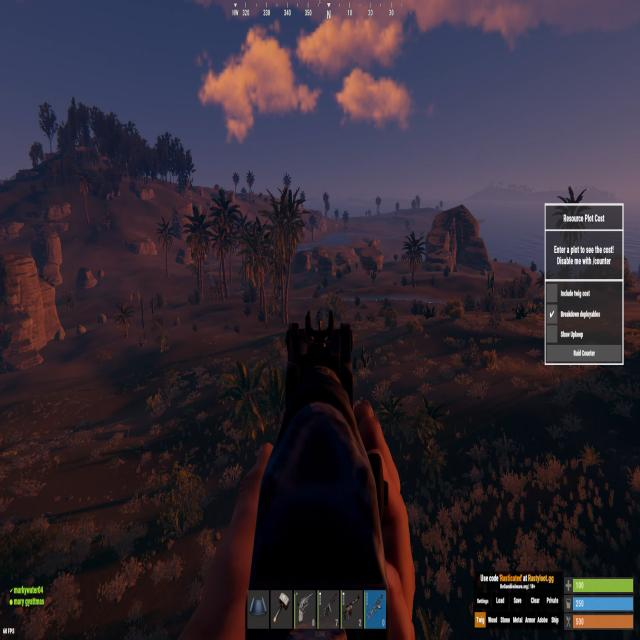Player: (317, 310, 321, 327)
